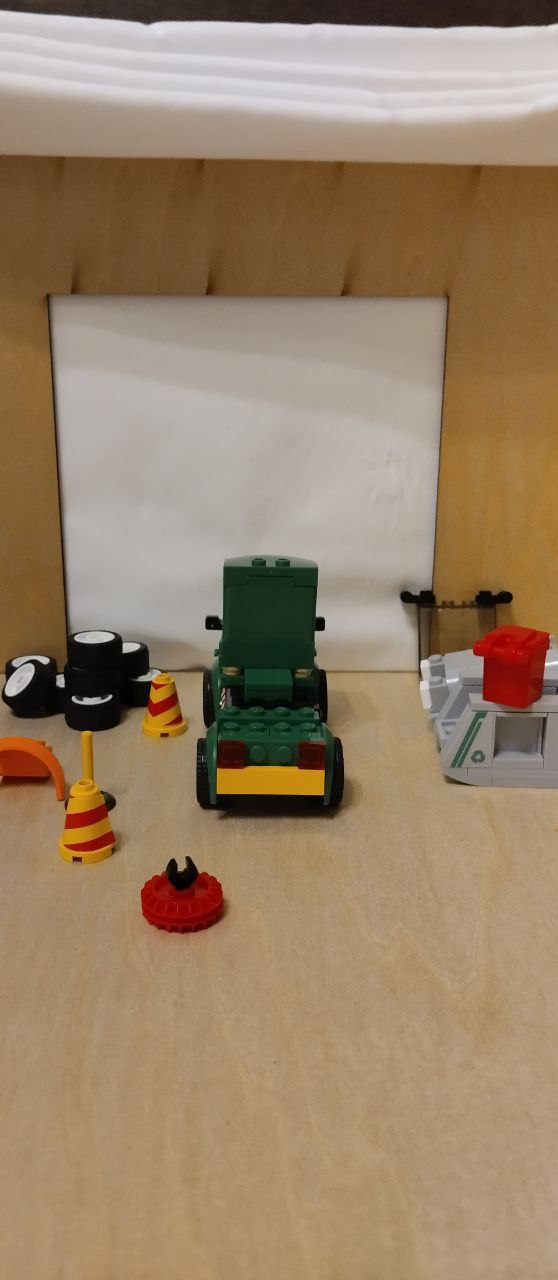Cone: (60, 782, 126, 870), (136, 669, 191, 741)
Object Red: (472, 621, 553, 710)
Truck: (190, 553, 347, 820)
